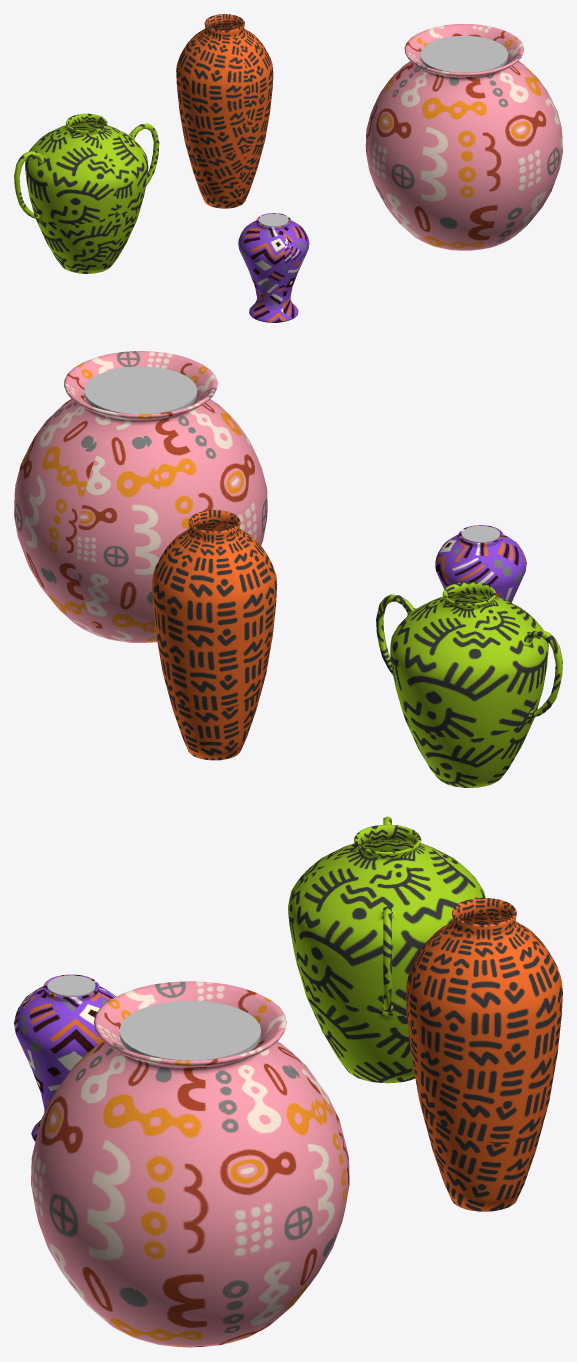
The model's file is 4 pots.fbx.
3 views of the same model, one above another, from view 1: azimuth 30°, elevation 25°; view 2: azimuth 150°, elevation 25°; view 3: azimuth 270°, elevation 25° (orthographic). The views are drawn at different scales.
Visible parts, largest first — view 1: Pot_Large-Lid, Pot_Handles, Pot_SkinnyTall, Pot_Small-Lid, Lid_Large; view 2: Pot_Large-Lid, Pot_Handles, Pot_SkinnyTall, Lid_Large, Pot_Small-Lid, Lid_Small; view 3: Pot_Large-Lid, Pot_SkinnyTall, Pot_Handles, Lid_Large, Pot_Small-Lid, Lid_Small.
Part boxes in pixels (x1,y1,x2,y2): Pot_Large-Lid: [365, 24, 562, 250]; Pot_Handles: [14, 113, 159, 273]; Pot_SkinnyTall: [176, 14, 273, 208]; Pot_Small-Lid: [238, 213, 309, 322]; Lid_Large: [420, 35, 508, 72]; Pot_Large-Lid: [14, 351, 267, 642]; Pot_Handles: [376, 582, 562, 787]; Pot_SkinnyTall: [152, 510, 277, 760]; Lid_Large: [84, 366, 197, 414]; Pot_Small-Lid: [435, 525, 526, 602]; Lid_Small: [461, 525, 499, 542]; Pot_Large-Lid: [31, 981, 349, 1347]; Pot_SkinnyTall: [405, 898, 562, 1211]; Pot_Handles: [288, 816, 485, 1083]; Lid_Large: [119, 1000, 261, 1060]; Pot_Small-Lid: [14, 974, 115, 1141]; Lid_Small: [47, 975, 95, 996].
Bounding box in the file's own units: 184 × 67.66 × 115.
